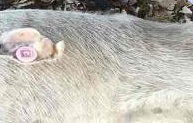text: (5, 41, 47, 68)
